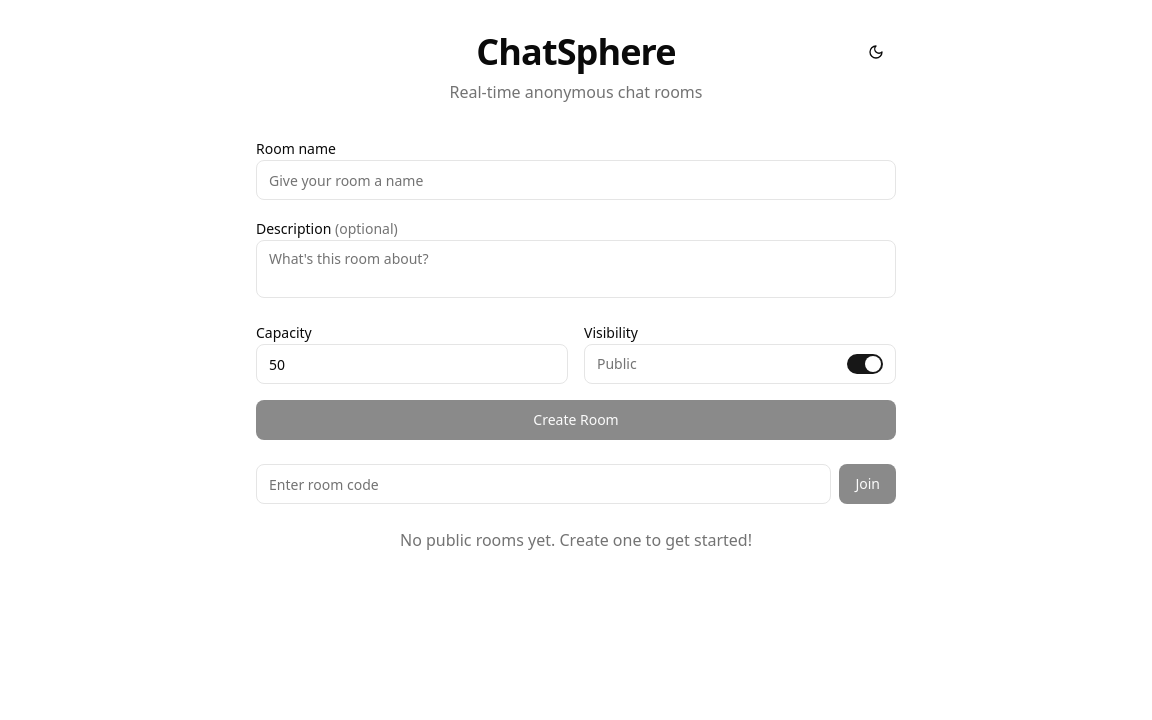
Test: App › shows room code dialog after creating a private room
expect the text "No public rooms yet. Create one to get started!" is shown: met, box [400,529,752,551]
Step 1. Type "Secret Room" into the field labelled "Room name" → (576, 180), box [256,160,896,200]
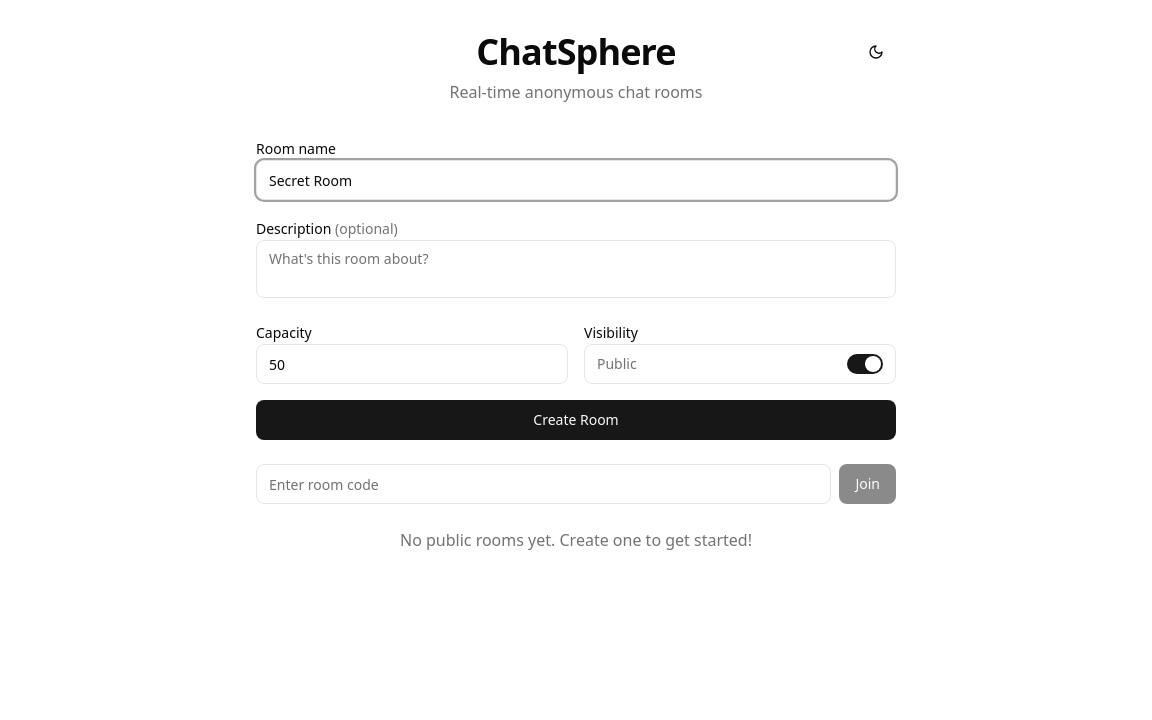
Step 2. Click the switch named "Public room" → (617, 364), box [584,344,896,384]
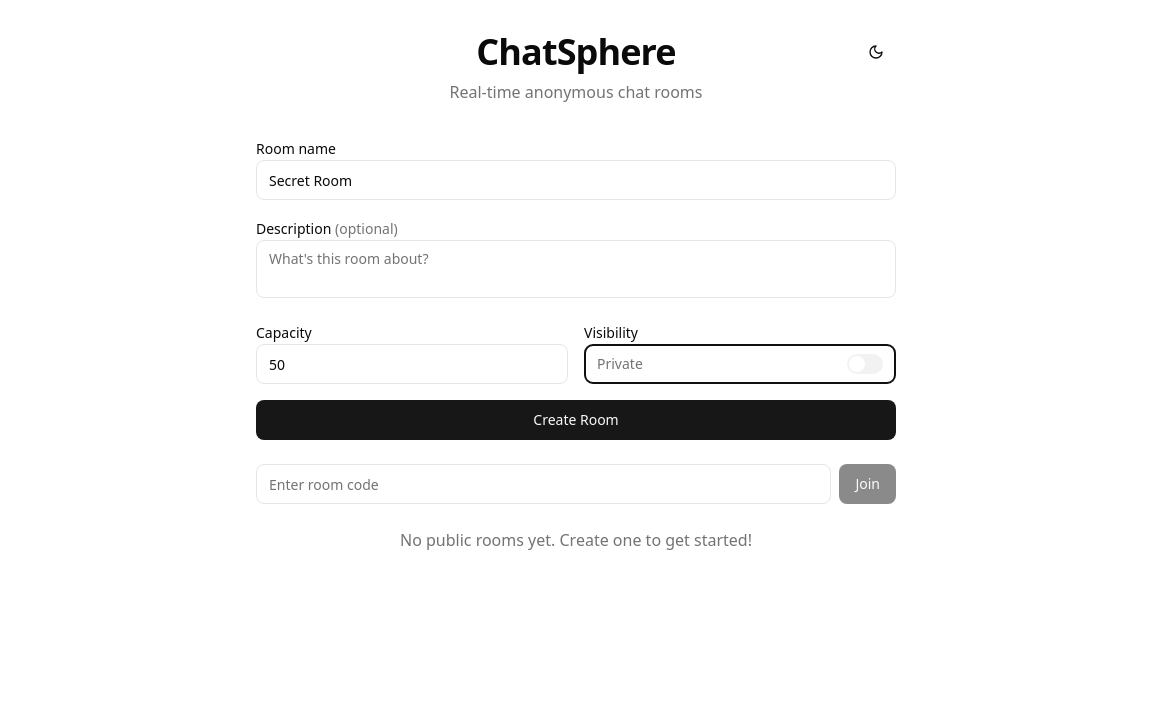
Step 3. Click the button "Create Room" → (576, 420), box [256,400,896,440]
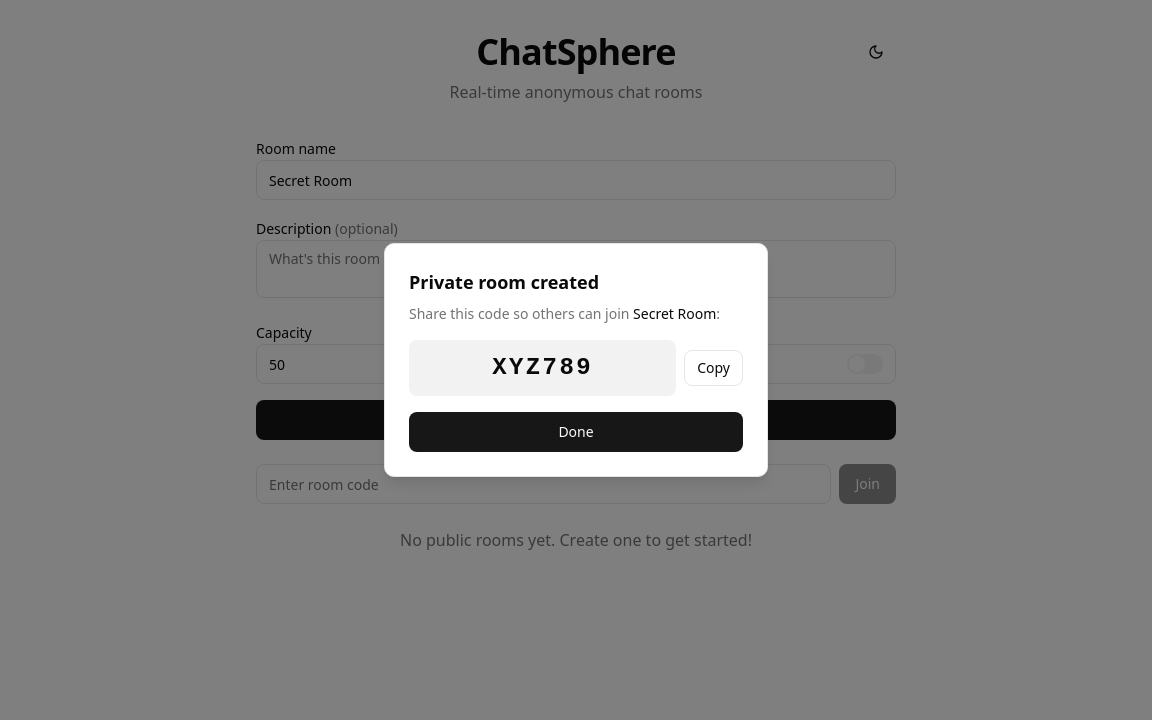
expect the dialog "Private room created" is shown: met
expect the text "XYZ789" is shown: met, box [409,340,676,396]
